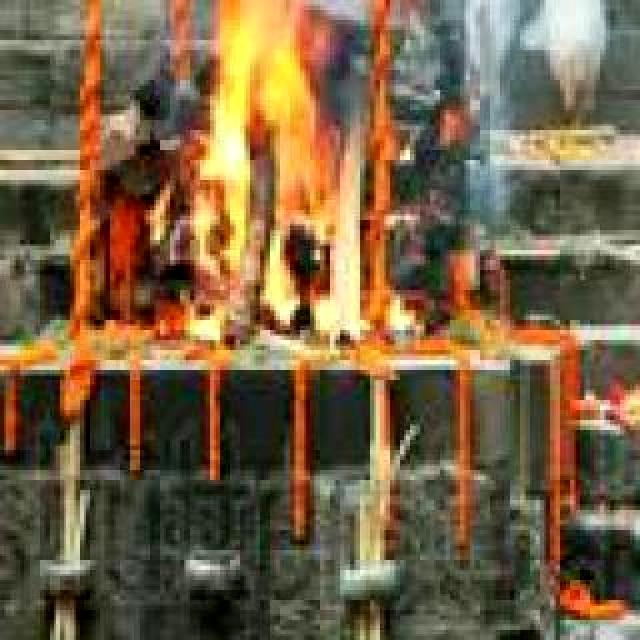fire: (192, 0, 374, 350)
